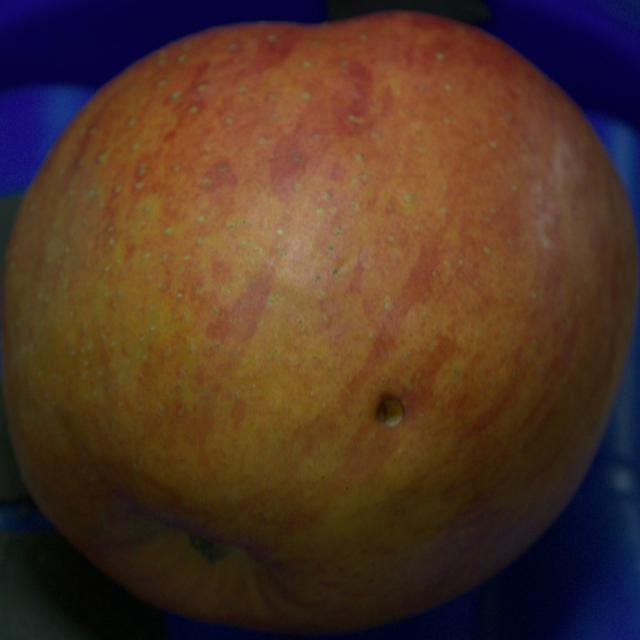apple: (0, 13, 638, 634)
pest: (378, 398, 404, 427)
